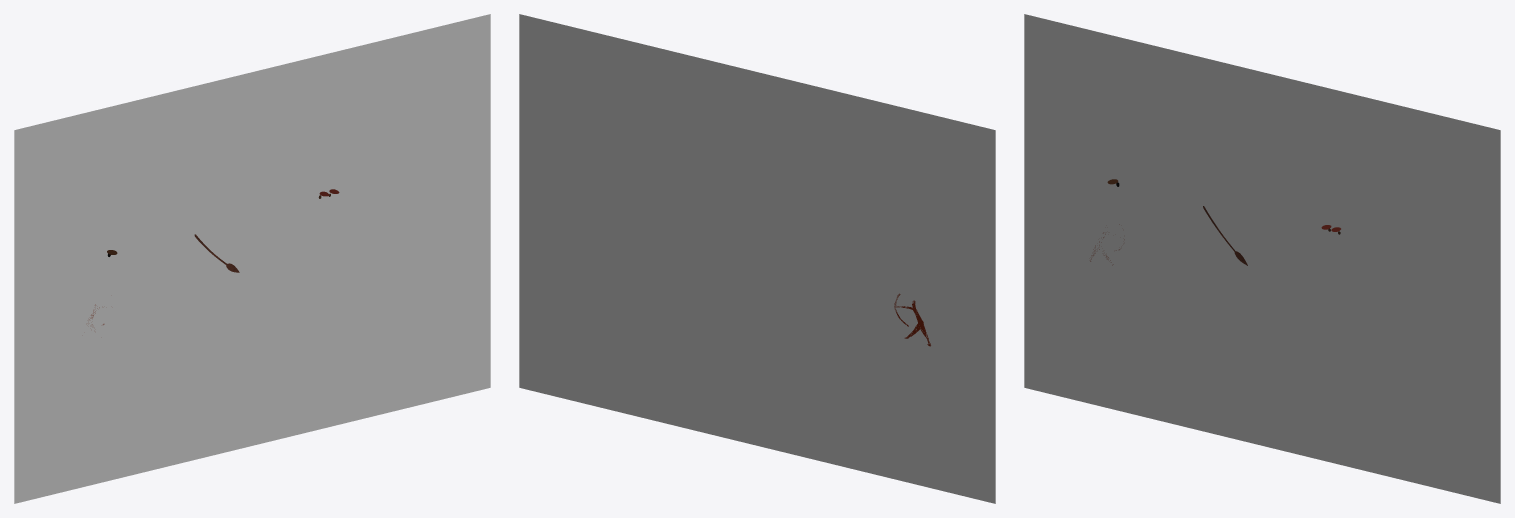
File: Bisonte01_sense_mod.FBX
3 renders of one model, left to right at view 1: azimuth 30°, elevation 25°; view 2: azimuth 150°, elevation 25°; view 3: azimuth 330°, elevation 25°, orthographic.
Parts seen in each view (by area): view 1: ref unity; view 2: ref unity; view 3: ref unity.
Part boxes in pixels (x1,y1,x2,y2): ref unity: (14, 14, 490, 503); ref unity: (519, 14, 995, 503); ref unity: (1024, 14, 1500, 503).
Size of the model in its own units: 40 by 1.28 by 30.
